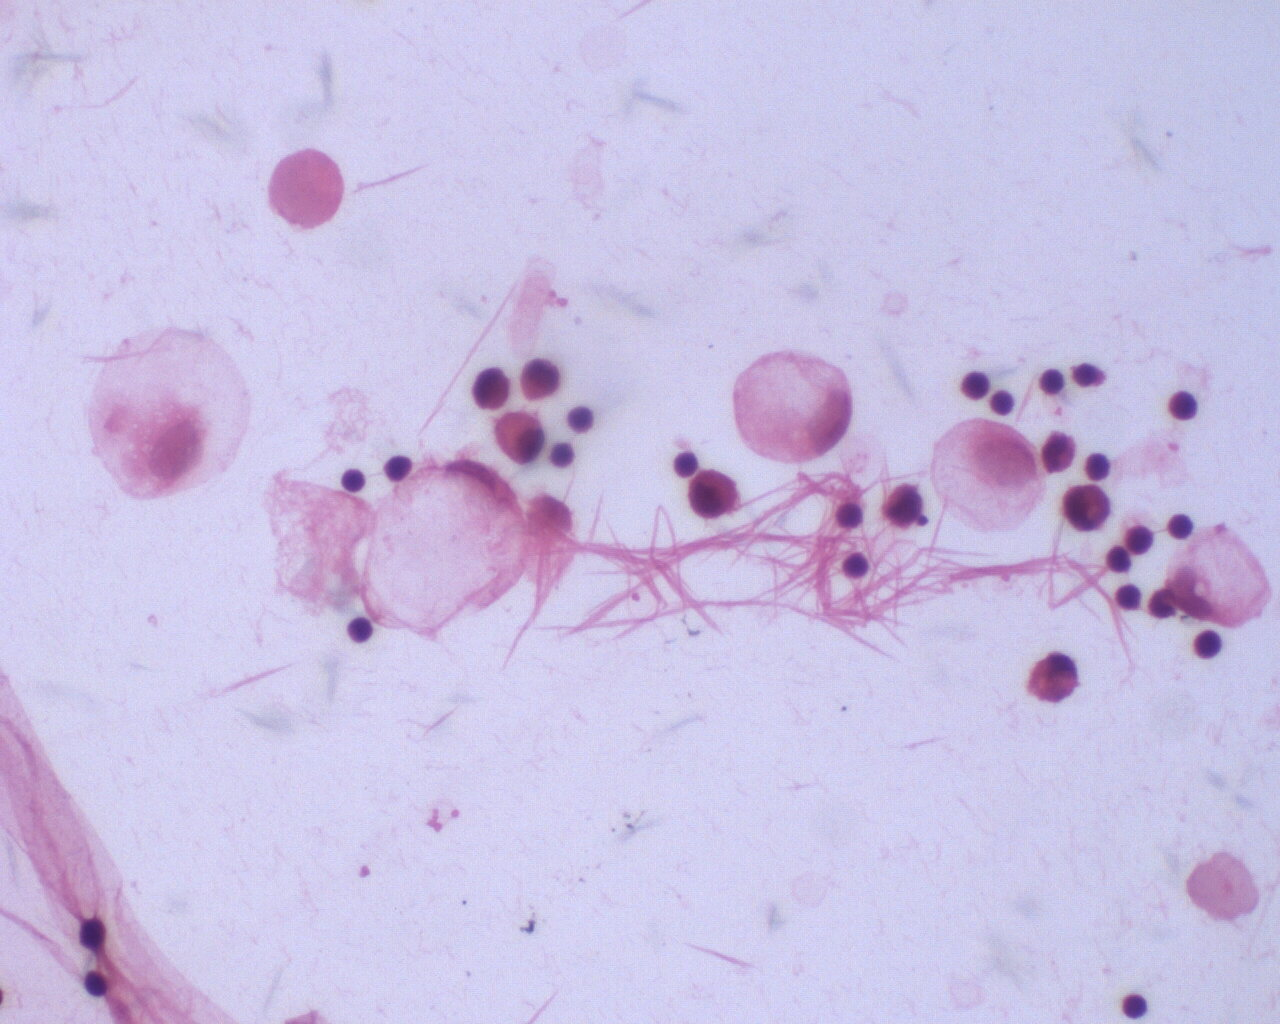histo: (734, 345, 853, 471), (927, 412, 1049, 534), (1173, 512, 1279, 636)
lymph: (1184, 627, 1227, 669), (1165, 383, 1201, 427), (960, 363, 994, 403), (670, 446, 707, 481), (1035, 365, 1071, 399), (1117, 991, 1155, 1023), (336, 464, 372, 495), (342, 616, 377, 648)
meso: (686, 462, 746, 526), (491, 408, 548, 468)
